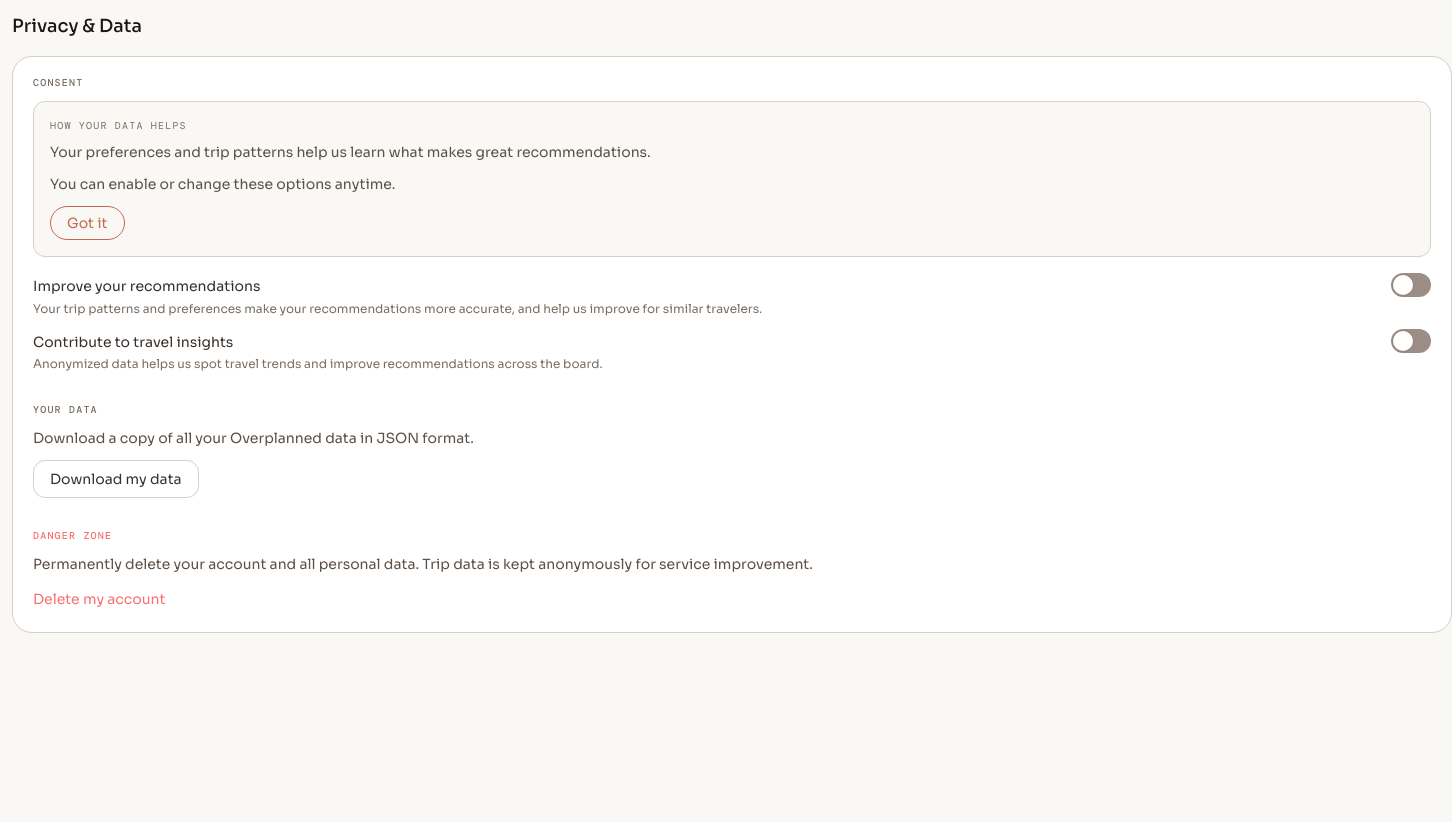
it: PrivacySection › export 429 shows rate limit message
Click the button "Download my data": (116, 479) [33,460,199,498]
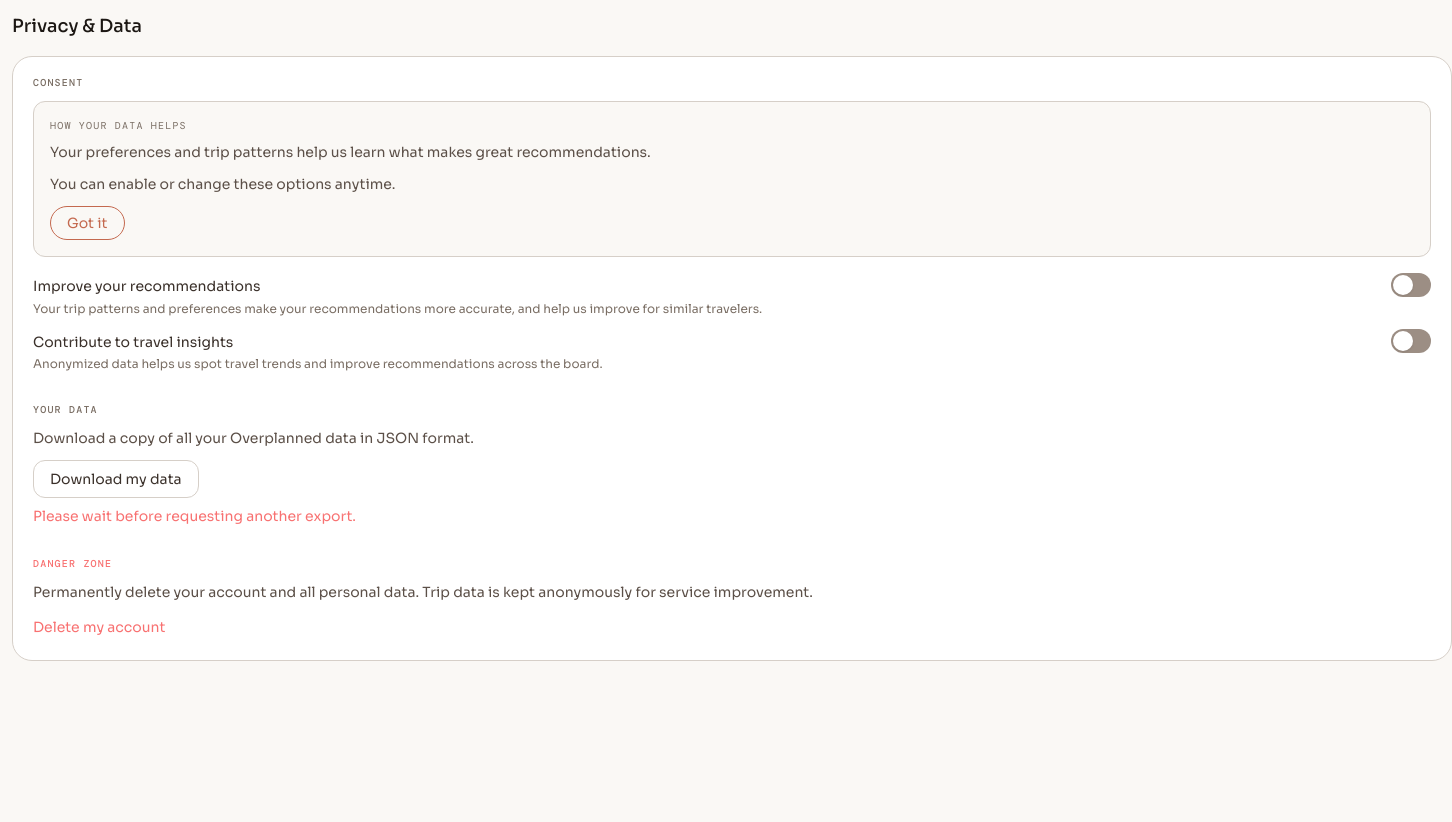
Expected: the text "Please wait before requesting another export." is shown, [33,507,356,525]
